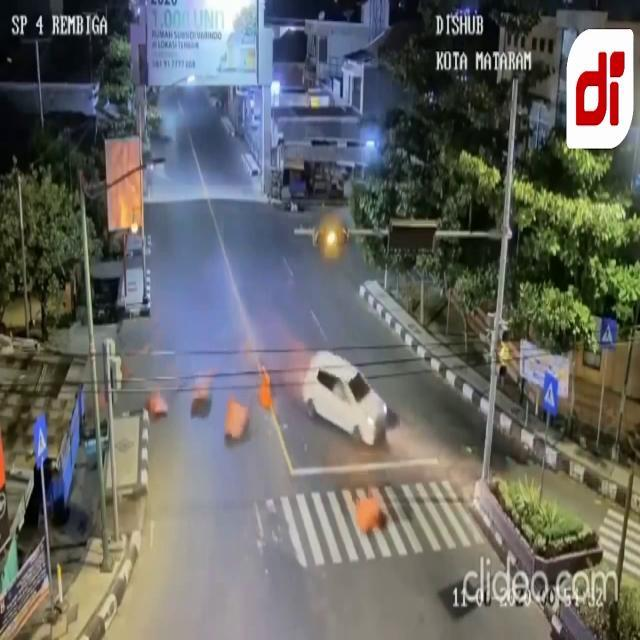single accident: (270, 325, 427, 475)
